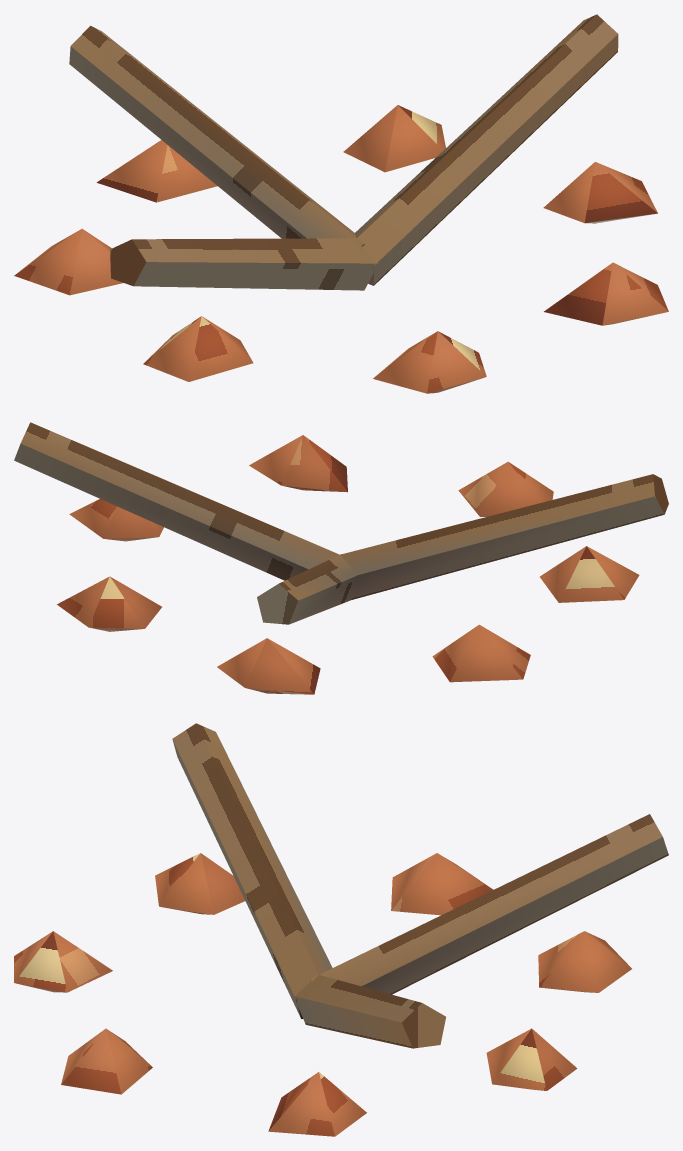
Rendered from wprop.campfire__cold.glb.
The picture shows the model from 3 angles, top to bottom: view 1: azimuth 30°, elevation 25°; view 2: azimuth 150°, elevation 25°; view 3: azimuth 270°, elevation 25°; orthographic projection. The views are drawn at different scales.
Visible parts, largest first — view 1: kit_logs, kit_stones; view 2: kit_logs, kit_stones; view 3: kit_logs, kit_stones.
Boxes of the visible parts, left/top/right/bottom form: kit_logs: left=69, top=14, right=618, bottom=290; kit_stones: left=14, top=105, right=668, bottom=393; kit_logs: left=14, top=422, right=668, bottom=624; kit_stones: left=57, top=435, right=639, bottom=694; kit_logs: left=172, top=723, right=668, bottom=1048; kit_stones: left=14, top=853, right=631, bottom=1136.
Size of the model in its own units: 1.28 by 0.3203 by 1.2.
2 materials, 2 textured.
